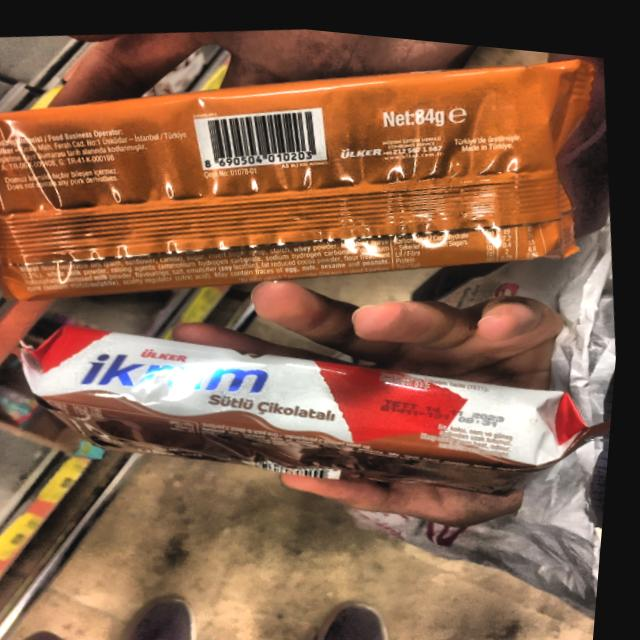Plastic: (0, 44, 595, 302), (23, 325, 616, 493)
